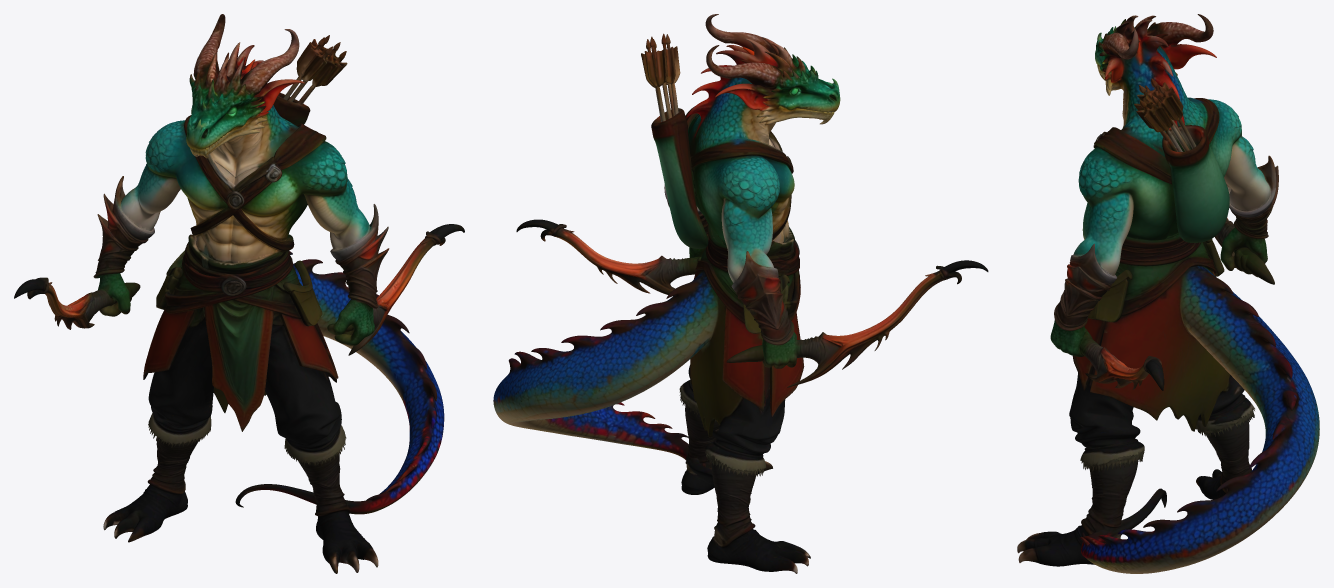
File: dragonborn_ranger_full_male_01.glb
The picture shows the model from 3 angles, left to right: view 1: azimuth 30°, elevation 25°; view 2: azimuth 150°, elevation 25°; view 3: azimuth 270°, elevation 25°; orthographic projection. The views are drawn at different scales.
Parts seen in each view (by area): view 1: material; view 2: material; view 3: material.
Part boxes in pixels (x1,y1,x2,y2): material: [14, 14, 464, 573]; material: [493, 14, 988, 573]; material: [1017, 14, 1319, 573].
Size of the model in its own units: 0.9891 by 1.02 by 0.5431.
Materials: 1 (1 with a texture image).
